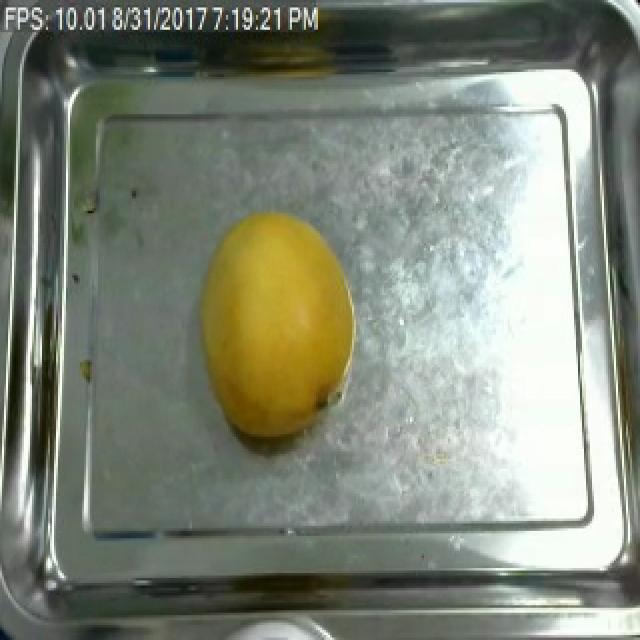fruit: (184, 201, 368, 454)
